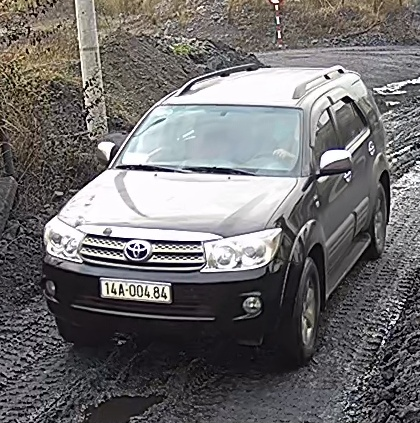vehicle plate: (95, 271, 177, 306)
